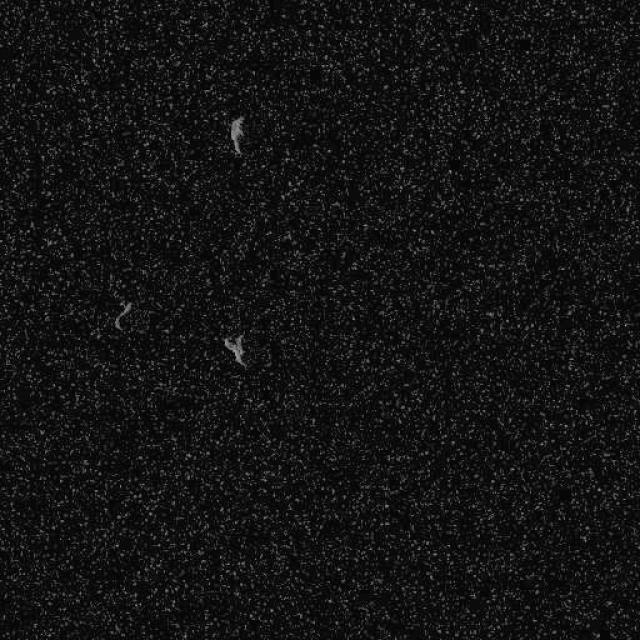D2: (222, 332, 248, 368), (229, 114, 245, 155), (112, 300, 132, 331)
